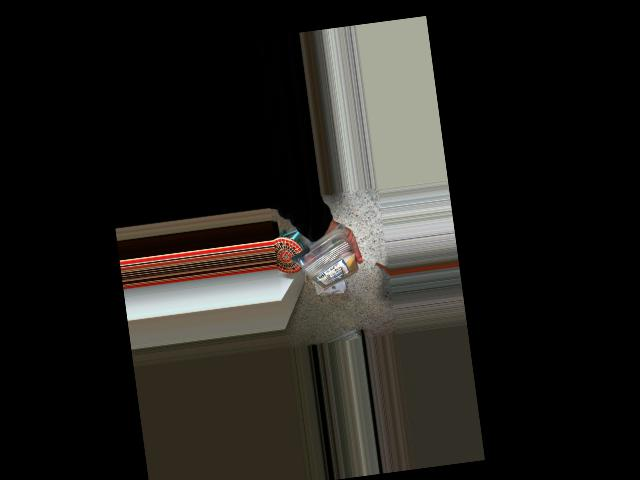cheese: (284, 222, 360, 304)
